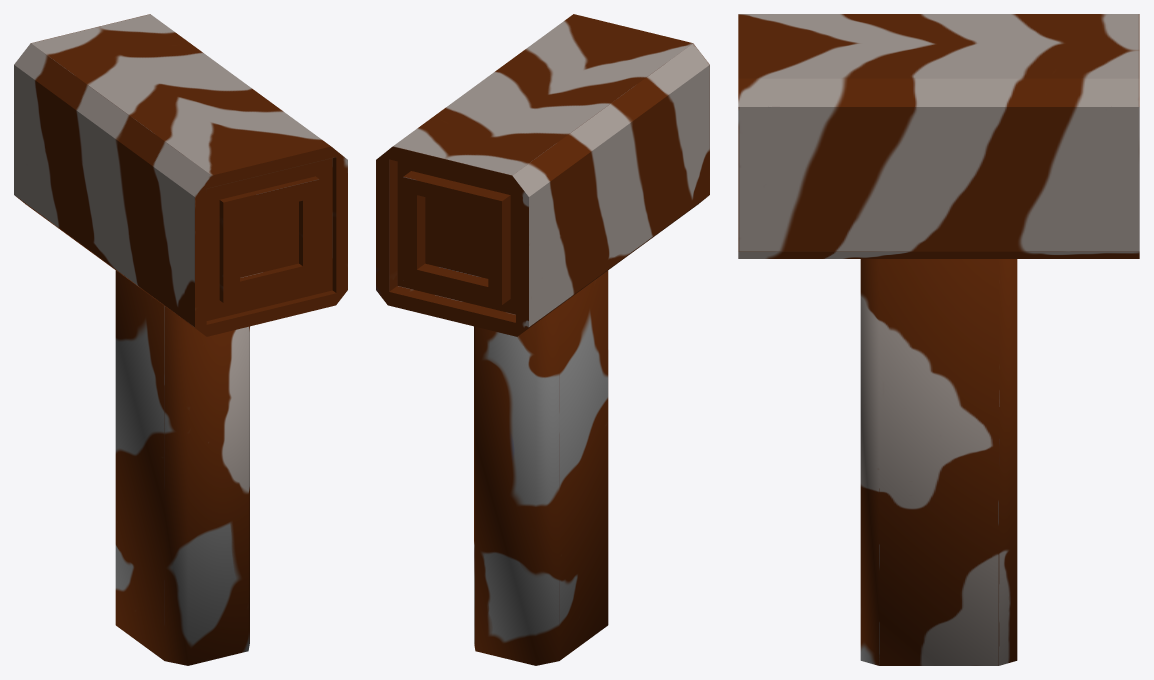
Rendered from mlotek.fbx.
The picture shows the model from 3 angles, left to right: view 1: azimuth 30°, elevation 25°; view 2: azimuth 150°, elevation 25°; view 3: azimuth 270°, elevation 25°; orthographic projection. The views are drawn at different scales.
Parts seen in each view (by area): view 1: Cube; view 2: Cube; view 3: Cube.
Part boxes in pixels (<box>): Cube: <box>14,14,347,665</box>; Cube: <box>376,14,709,665</box>; Cube: <box>738,14,1139,665</box>.
Bounding box in the file's own units: 200 × 673 × 410.
